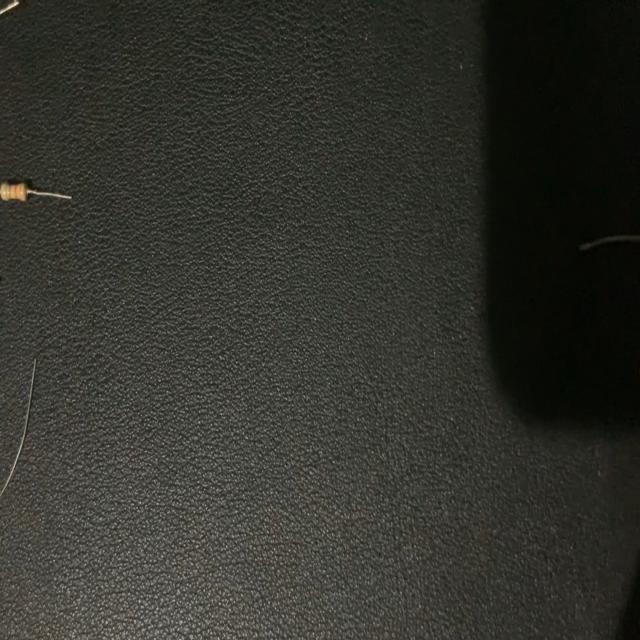resistor: (0, 151, 80, 214)
